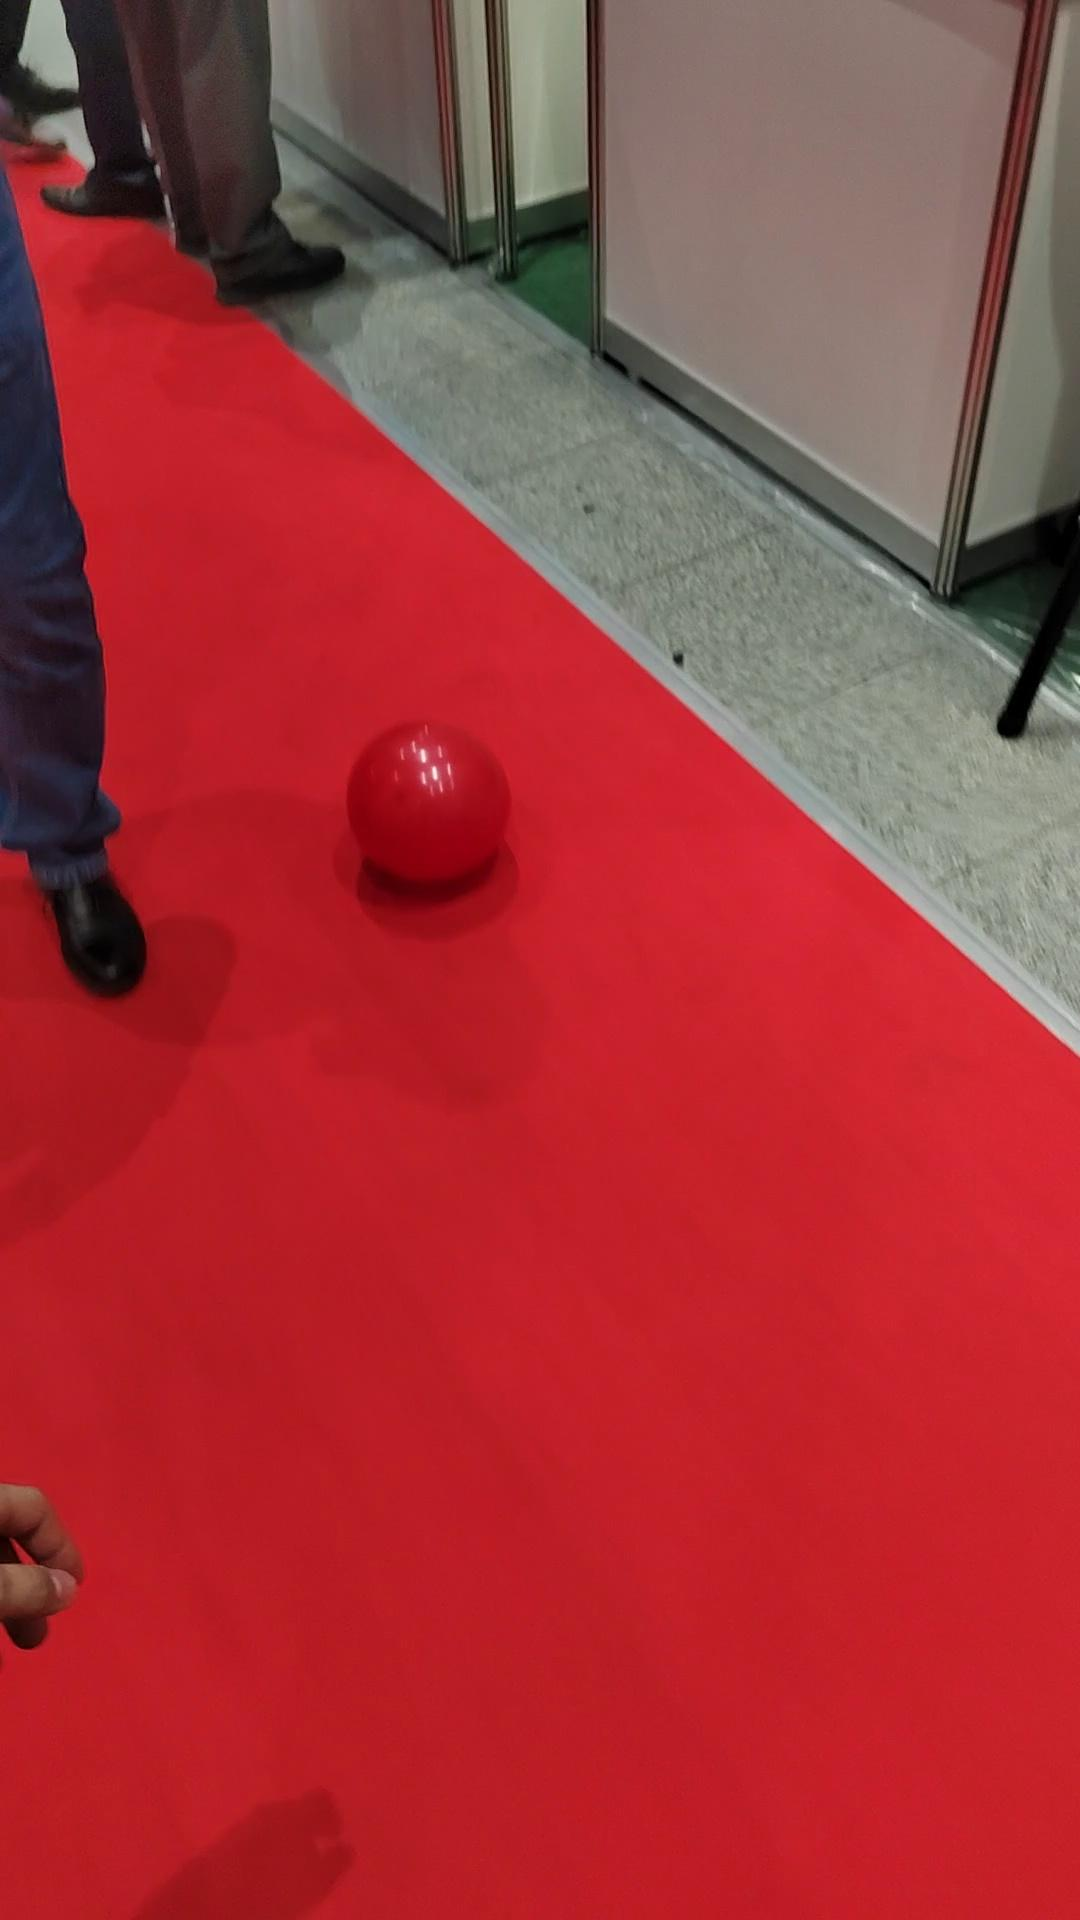red: (346, 719, 511, 886)
